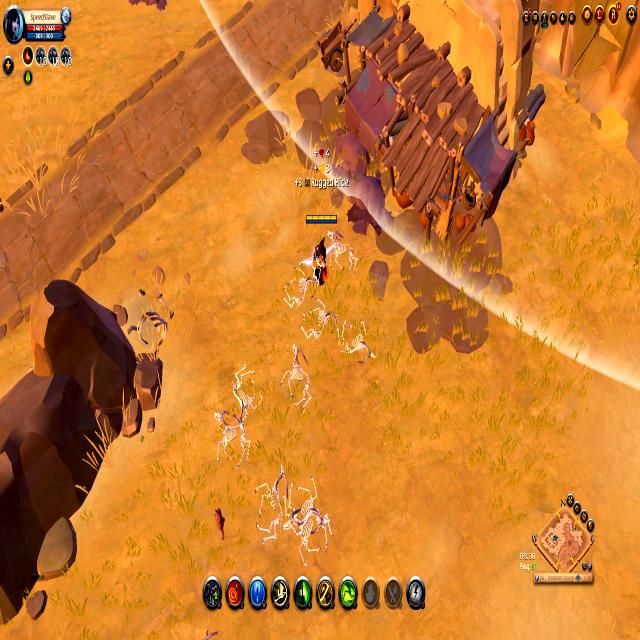red: (304, 211, 338, 284)
